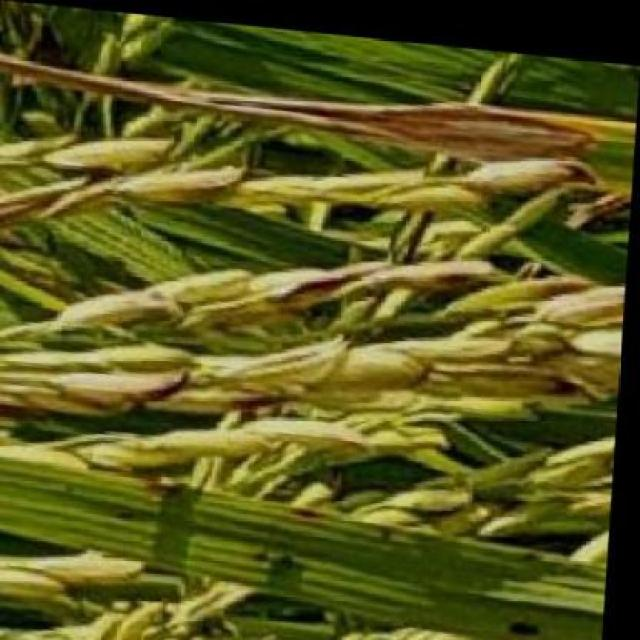Brown_Spot: (0, 43, 592, 168)
